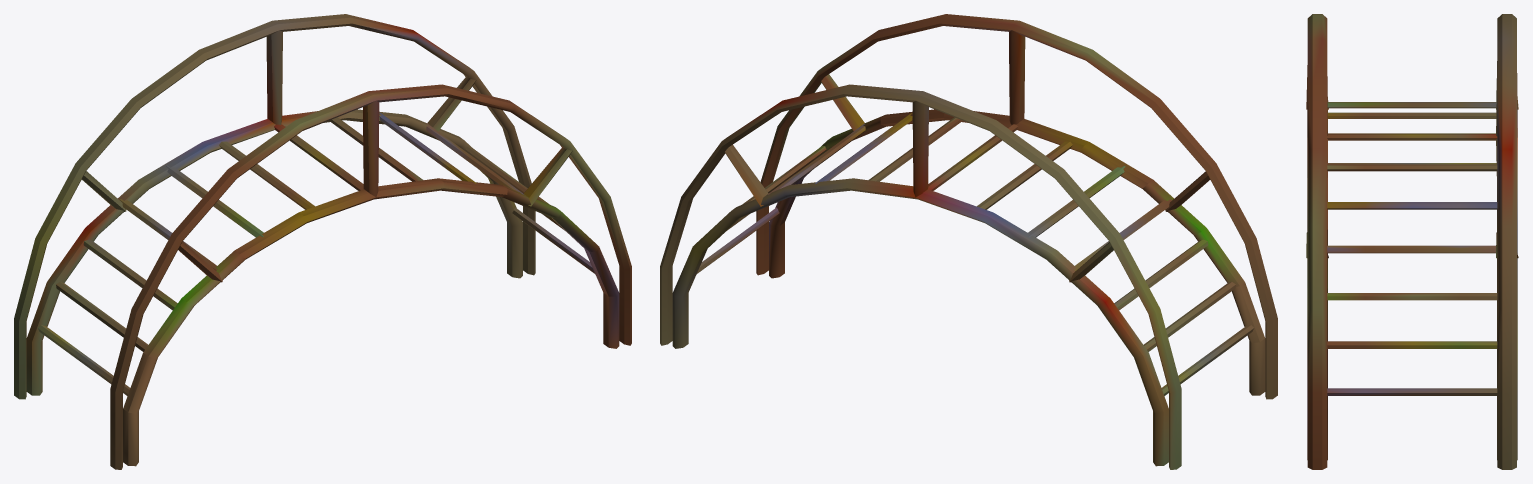
Rendered from Climbing wall.fbx.
The picture shows the model from 3 angles, left to right: view 1: azimuth 30°, elevation 25°; view 2: azimuth 150°, elevation 25°; view 3: azimuth 270°, elevation 25°; orthographic projection.
Visible parts, largest first — view 1: Cube.690; view 2: Cube.690; view 3: Cube.690.
Boxes of the visible parts, x1,y1,x2,y2 form: Cube.690: (14,14,631,469); Cube.690: (660,14,1277,469); Cube.690: (1306,14,1518,469).
Size of the model in its own units: 9.84 by 3.56 by 5.68.
